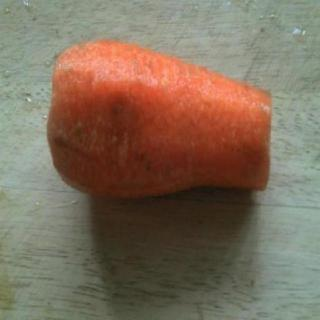carrot: (47, 38, 273, 200)
